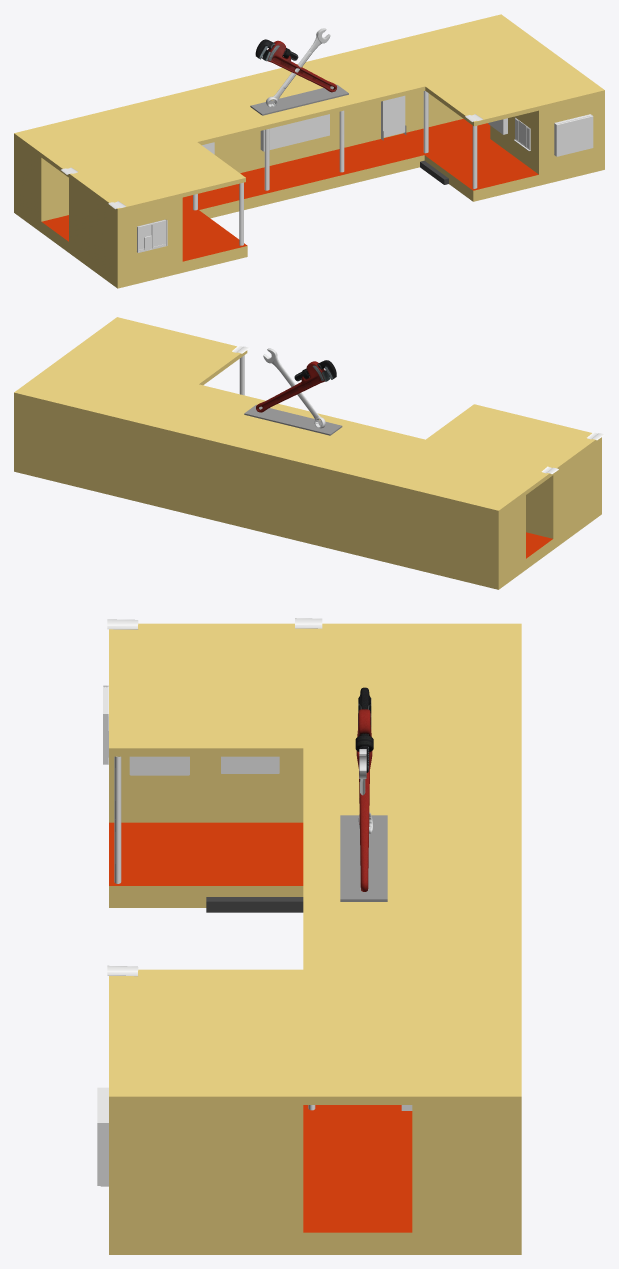
The model's file is MECHBlock.glb.
3 renders of one model, top to bottom at view 1: azimuth 30°, elevation 25°; view 2: azimuth 150°, elevation 25°; view 3: azimuth 270°, elevation 25°, orthographic. The views are drawn at different scales.
Visible parts, largest first — view 1: floor, CTRL_Hole.007, CTRL_Hole.001, 10299_Monkey-Wrench_v1_L3, Cube, CTRL_Hole.006, 13073_Combination_Wrench_v1_l3, Window.001, Column.004; view 2: floor, 10299_Monkey-Wrench_v1_L3, Cube, 13073_Combination_Wrench_v1_l3; view 3: floor, Cube, 10299_Monkey-Wrench_v1_L3, CTRL_Hole.003, CTRL_Hole.004, Column.005.
Part boxes in pixels (left/top/right/bottom): floor: left=14, top=14, right=604, bottom=288; CTRL_Hole.007: left=260, top=114, right=329, bottom=151; CTRL_Hole.001: left=555, top=114, right=593, bottom=156; 10299_Monkey-Wrench_v1_L3: left=255, top=39, right=336, bottom=92; Cube: left=250, top=84, right=348, bottom=115; CTRL_Hole.006: left=381, top=95, right=405, bottom=137; 13073_Combination_Wrench_v1_l3: left=266, top=28, right=330, bottom=106; Window.001: left=514, top=118, right=530, bottom=150; Column.004: left=472, top=126, right=477, bottom=188; floor: left=14, top=317, right=601, bottom=589; 10299_Monkey-Wrench_v1_L3: left=256, top=360, right=336, bottom=412; Cube: left=244, top=404, right=342, bottom=435; 13073_Combination_Wrench_v1_l3: left=263, top=348, right=325, bottom=428; floor: left=109, top=623, right=521, bottom=1254; Cube: left=340, top=815, right=387, bottom=901; 10299_Monkey-Wrench_v1_L3: left=355, top=687, right=373, bottom=891; CTRL_Hole.003: left=130, top=756, right=189, bottom=775; CTRL_Hole.004: left=221, top=756, right=278, bottom=773; Column.005: left=114, top=756, right=121, bottom=883.
Size of the model in its own units: 47.41 by 13.88 by 17.84.
19 materials, 1 textured.
